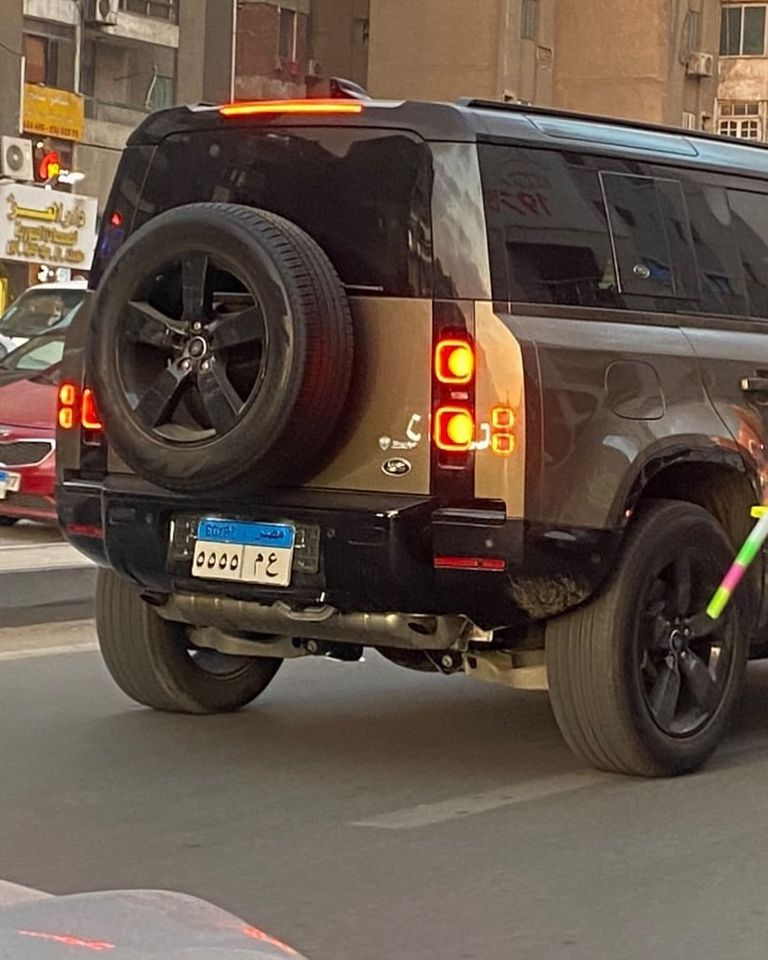carpl: (185, 540, 299, 581)
